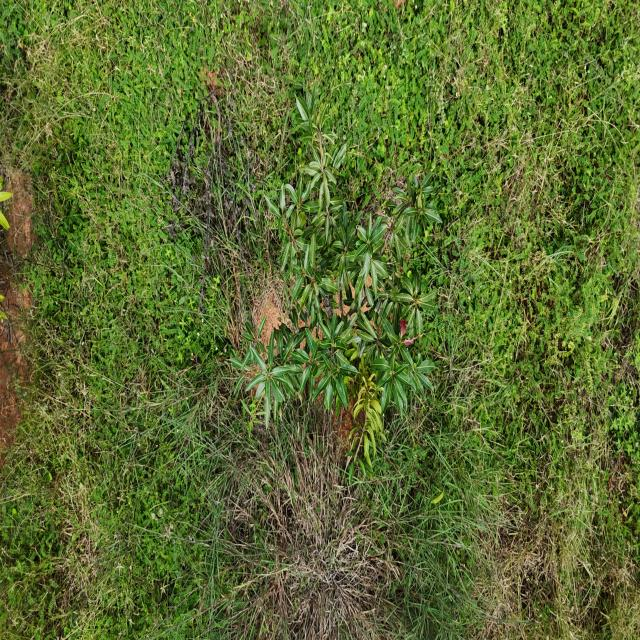mangoTree: (226, 86, 444, 478)
